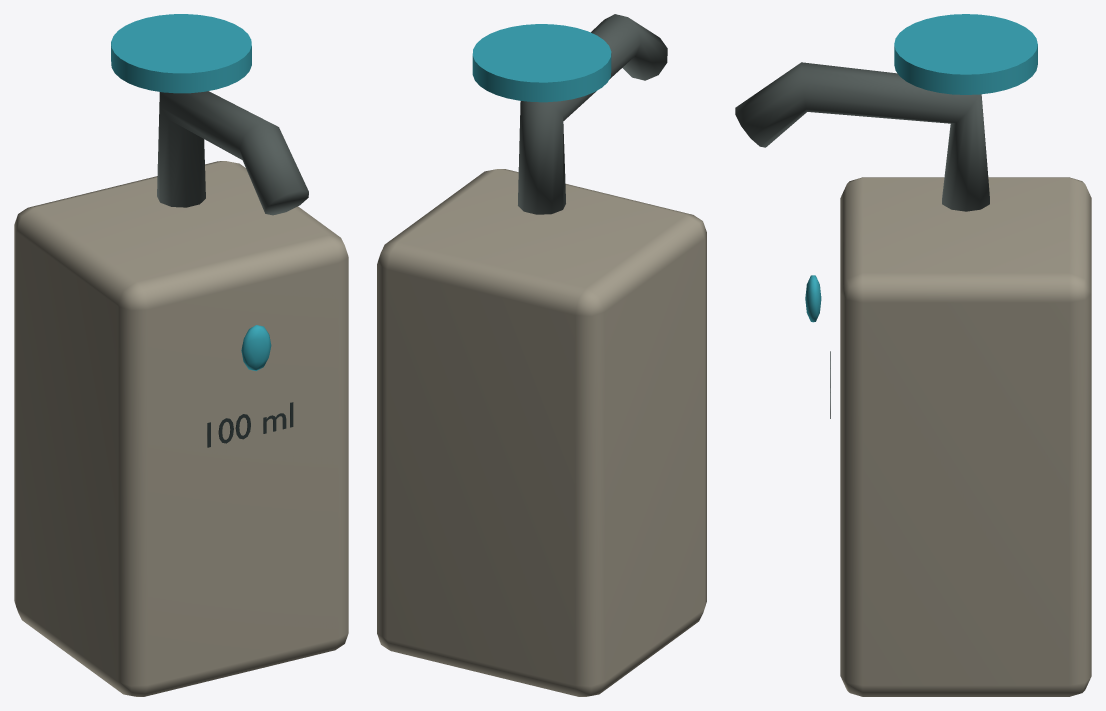
File: SM_Prop_Inflow_100ml.fbx
3 views of the same model, side by side, from view 1: azimuth 30°, elevation 25°; view 2: azimuth 150°, elevation 25°; view 3: azimuth 270°, elevation 25° (orthographic). The views are drawn at different scales.
Parts seen in each view (by area): view 1: Tap_plinth, Tap_spout, Tap_action_top, Tap_drop_0, Tap_volume; view 2: Tap_plinth, Tap_action_top, Tap_spout; view 3: Tap_plinth, Tap_spout, Tap_action_top, Tap_drop_0.
Boxes of the visible parts, left/top/right/bottom form: Tap_plinth: left=14, top=161, right=348, bottom=696; Tap_spout: left=157, top=91, right=308, bottom=215; Tap_action_top: left=111, top=14, right=251, bottom=93; Tap_drop_0: left=241, top=325, right=271, bottom=371; Tap_volume: left=207, top=402, right=293, bottom=447; Tap_plinth: left=377, top=169, right=706, bottom=696; Tap_action_top: left=472, top=24, right=611, bottom=102; Tap_spout: left=518, top=14, right=667, bottom=214; Tap_plinth: left=840, top=177, right=1091, bottom=696; Tap_spout: left=735, top=62, right=989, bottom=211; Tap_action_top: left=894, top=14, right=1037, bottom=94; Tap_drop_0: left=805, top=275, right=821, bottom=322.
Size of what is drawn, in the model's own units: 30 by 39.7 by 74.25.
